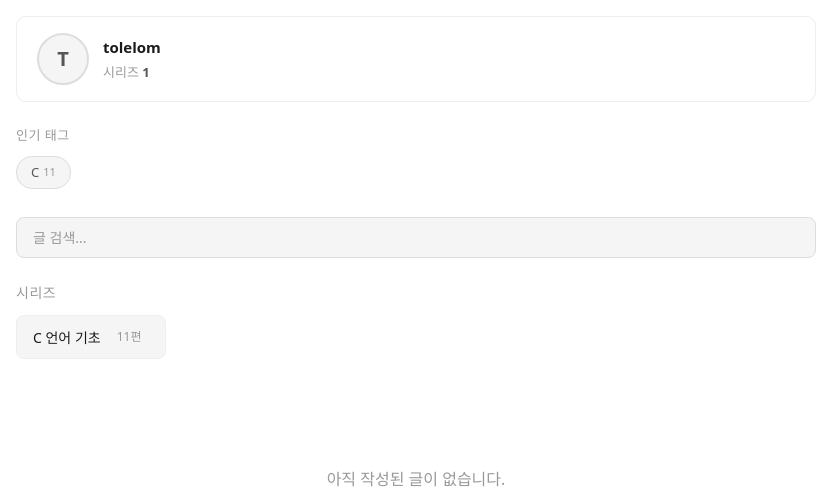
Scenario: HomePage › 인기 태그를 누르면 그 태그로 다시 불러오고 시리즈·인기 태그를 숨긴다
Click the button named "C 태그로 필터링 (11개)".
click(43, 172)  # box [16,156,71,189]
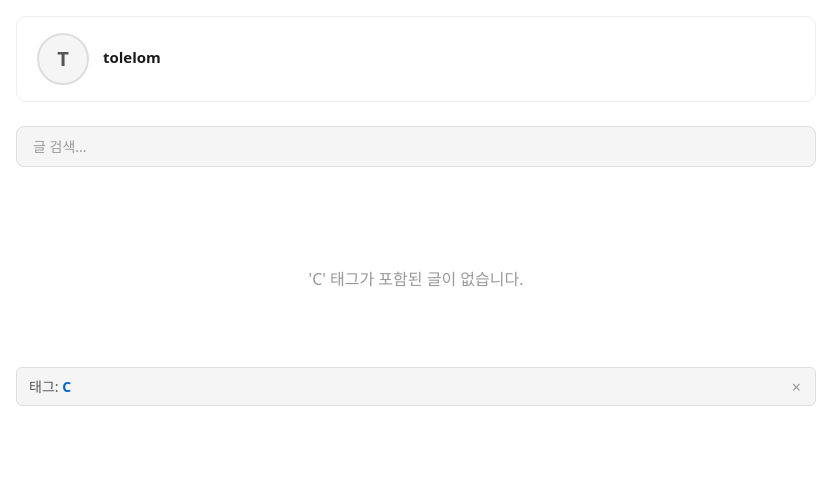
Expected: the text "'C' 태그가 포함된 글이 없습니다." is shown, [308,268,523,290]
Expected: the text "시리즈" is gone
Expected: the heading "인기 태그" is gone
